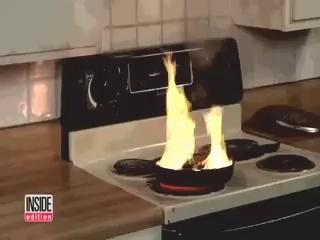Fire: (157, 56, 232, 169)
